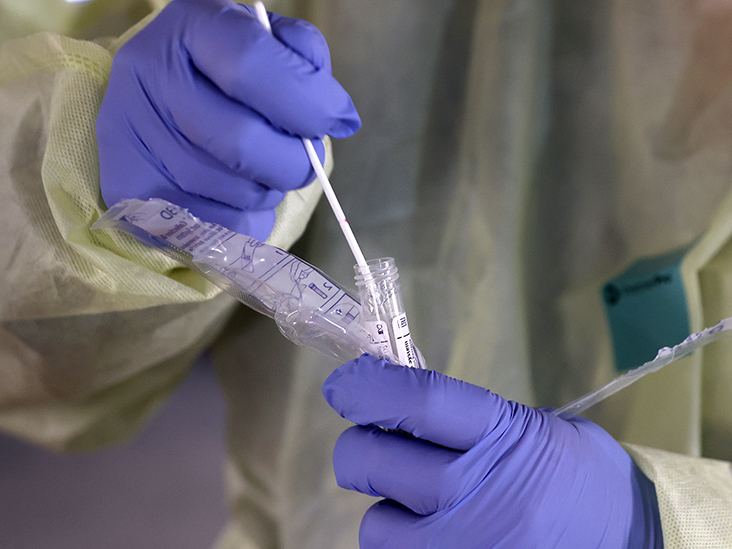Gloves: (319, 345, 651, 549), (96, 3, 364, 250)
